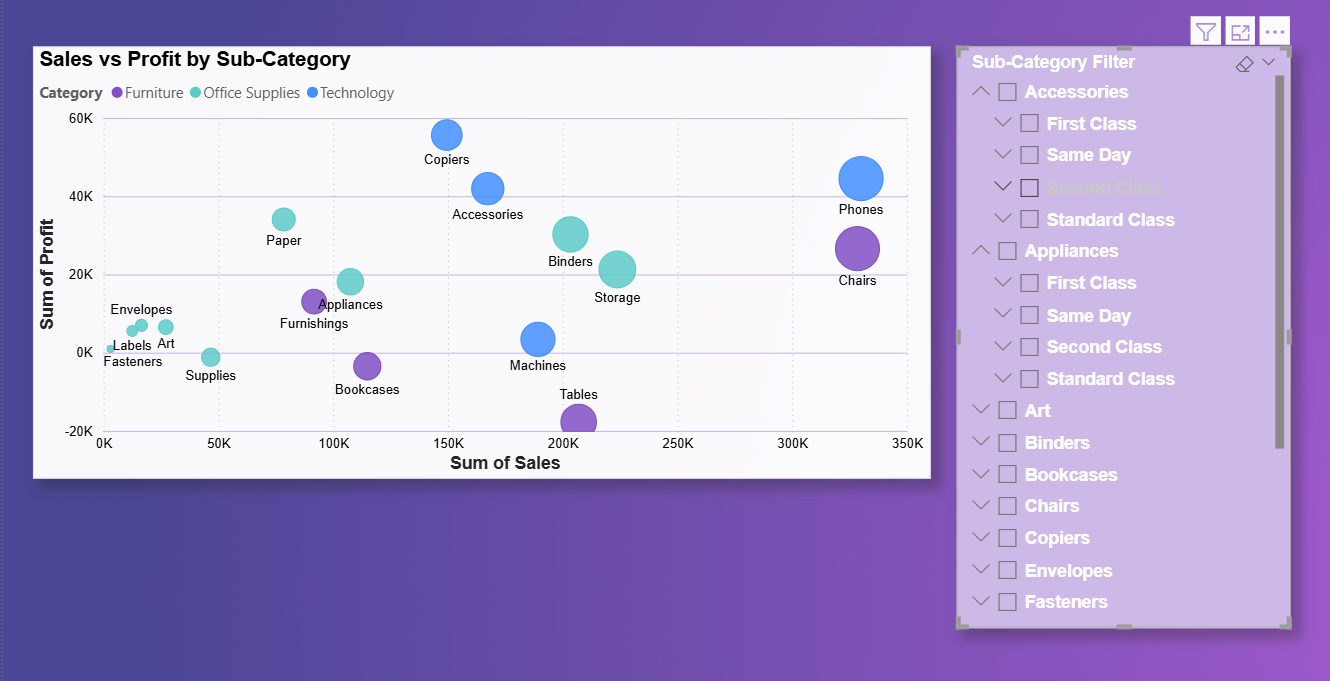

The page's visual inventory and layout, read from the dashboard file:
{"tool":"powerbi","page":{"name":"Sales VS Profit by Sub-Category","canvas":[1280,720],"ordinal":6},"visuals":[{"type":"scatterChart","title":"Sales vs Profit by Sub-Category","fields":{"X":["Sum(Sample - Superstore.Sales)"],"Y":["Sum(Sample - Superstore.Profit)"],"Category":["Sample - Superstore.Sub-Category"],"Series":["Sample - Superstore.Category"],"Size":["Sum(Sample - Superstore.Sales)"]},"box":[0,128.8,933.8,390],"z":0},{"type":"slicer","title":"Data Filters","fields":{"Values":["Sample - Superstore.Sub-Category","Sample - Superstore.Ship Mode","Sample - Superstore.Order Date.Variation.Date Hierarchy.Year"]},"box":[976.2,128.8,303.8,527.5],"z":1000}]}

Visuals, with their boxes on the page's 1280x720 design canvas (x1, y1, x2, y2). These are canvas units, not pixel positions in the 1330x681 screenshot, which may show the page scaled, cropped or inside an application window:
"Sales vs Profit by Sub-Category" scatterChart: box(0, 129, 934, 519)
"Data Filters" slicer: box(976, 129, 1280, 656)
